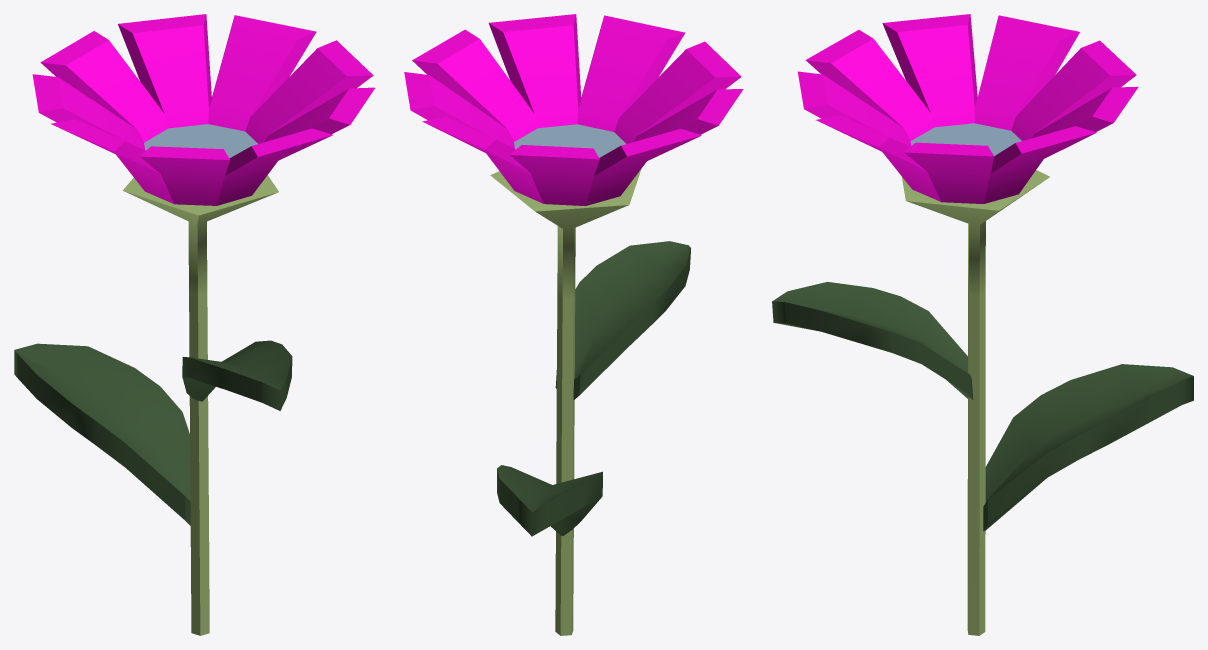
The model's file is Flower_5.fbx.
3 renders of one model, left to right at view 1: azimuth 30°, elevation 25°; view 2: azimuth 150°, elevation 25°; view 3: azimuth 270°, elevation 25°, orthographic.
Parts seen in each view (by area): view 1: pPipe19, pCube10, pPipe17, pCube11, pCylinder3; view 2: pPipe19, pCube11, pPipe17, pCube10, pCylinder3; view 3: pPipe19, pCube10, pCube11, pPipe17, pCylinder3.
Part boxes in pixels (x1,y1,x2,y2): pPipe19: (32, 14, 374, 205); pCube10: (14, 343, 190, 525); pPipe17: (123, 175, 278, 635); pCube11: (182, 340, 292, 410); pCylinder3: (144, 124, 257, 158); pPipe19: (404, 14, 743, 205); pCube11: (555, 241, 690, 399); pPipe17: (490, 169, 641, 635); pCube10: (497, 465, 602, 536); pCylinder3: (514, 124, 625, 157); pPipe19: (797, 14, 1138, 203); pCube10: (983, 364, 1193, 531); pCube11: (772, 282, 973, 399); pPipe17: (901, 170, 1049, 635); pCylinder3: (910, 123, 1021, 155).
Size of the model in its own units: 44.11 by 77.69 by 54.39.
